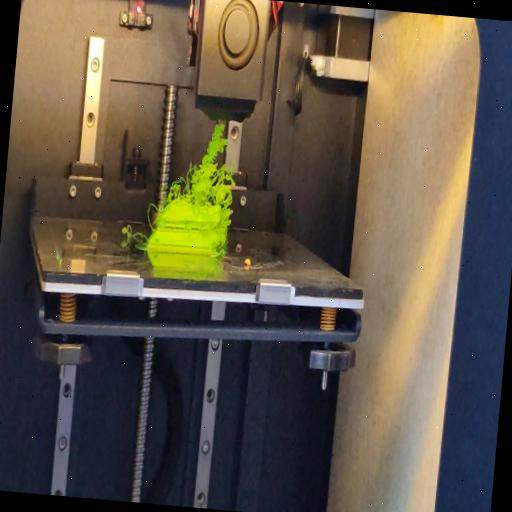spaghetti: (164, 120, 238, 210), (216, 214, 230, 254), (119, 224, 143, 246), (145, 200, 156, 230)
